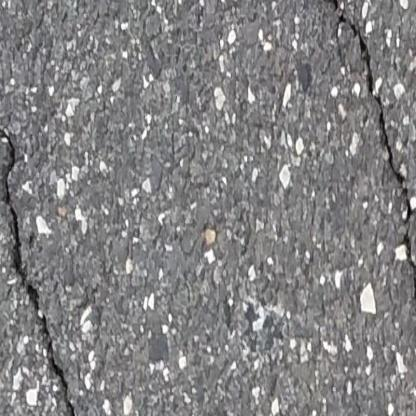Cracks: (0, 17, 101, 416), (305, 0, 416, 336)
